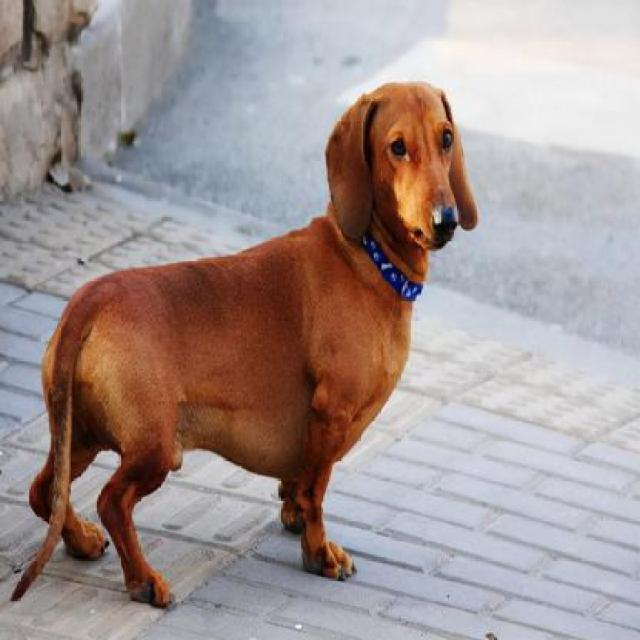Dog: (9, 77, 483, 615)
